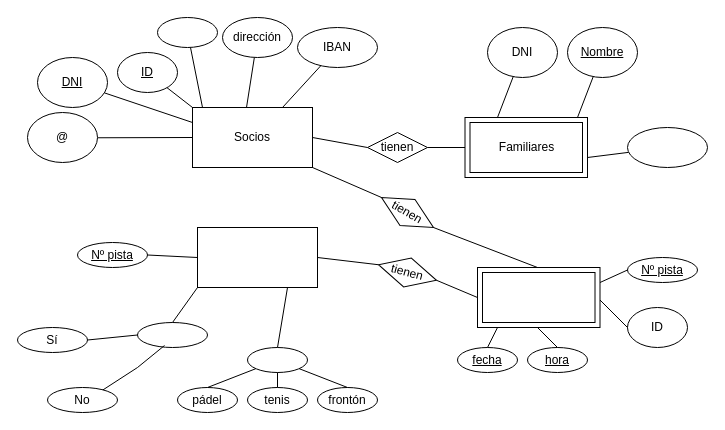
This 725x430 diagram has some shape labels left out. Here are the shapes that lost their labels. From the top down, the centre of each, then its label:
At point 187,32: "Tlf".
At point 667,147: "Apellidos".
At point 257,257: "Pista".
At point 538,297: "Reserva".
At point 172,335: "iluminación".
At point 277,359: "tipo".
